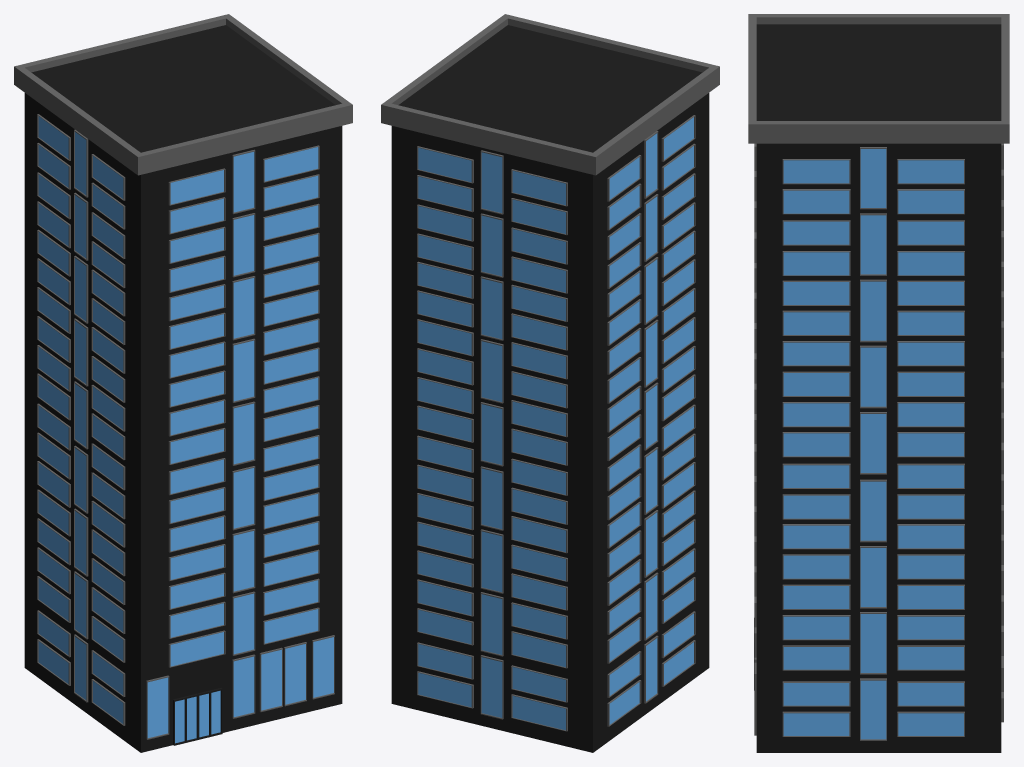
Rendered from cityasset_house_2.fbx.
3 views of the same model, side by side, from view 1: azimuth 30°, elevation 25°; view 2: azimuth 150°, elevation 25°; view 3: azimuth 270°, elevation 25° (orthographic). The views are drawn at different scales.
Parts seen in each view (by area): view 1: Cube.005, Cube.056, Cube.014, Cube.017, Cube.054, Cube.011, Cube.052, Cube.055, Cube.057, Cube.050, Cube.051, Cube.053 (+85 smaller); view 2: Cube.005, Cube.190, Cube.191, Cube.185, Cube.186, Cube.189, Cube.184, Cube.187, Cube.188, Cube.196, Cube.174, Cube.153 (+83 smaller); view 3: Cube.005, Cube.058, Cube.064, Cube.068, Cube.086, Cube.142, Cube.060, Cube.062, Cube.066, Cube.070, Cube.072, Cube.074 (+36 smaller).
Part boxes in pixels (bbox=[...]): Cube.005: bbox=[14, 14, 352, 752]; Cube.056: bbox=[232, 213, 255, 277]; Cube.014: bbox=[259, 647, 282, 711]; Cube.017: bbox=[146, 675, 169, 739]; Cube.054: bbox=[232, 338, 255, 402]; Cube.011: bbox=[232, 654, 255, 718]; Cube.052: bbox=[232, 466, 255, 530]; Cube.055: bbox=[232, 276, 255, 340]; Cube.057: bbox=[232, 149, 255, 214]; Cube.050: bbox=[232, 591, 255, 655]; Cube.051: bbox=[232, 529, 255, 593]; Cube.053: bbox=[232, 401, 255, 465]; Cube.005: bbox=[381, 14, 719, 752]; Cube.190: bbox=[480, 213, 503, 277]; Cube.191: bbox=[480, 150, 503, 214]; Cube.185: bbox=[480, 529, 503, 593]; Cube.186: bbox=[480, 466, 503, 530]; Cube.189: bbox=[480, 276, 503, 340]; Cube.184: bbox=[480, 592, 503, 656]; Cube.187: bbox=[480, 402, 503, 466]; Cube.188: bbox=[480, 339, 503, 403]; Cube.196: bbox=[480, 655, 503, 719]; Cube.174: bbox=[417, 261, 473, 299]; Cube.153: bbox=[511, 602, 567, 639]; Cube.005: bbox=[748, 14, 1009, 752]; Cube.058: bbox=[782, 645, 850, 670]; Cube.064: bbox=[782, 554, 850, 579]; Cube.068: bbox=[782, 494, 850, 519]; Cube.086: bbox=[782, 220, 850, 245]; Cube.142: bbox=[782, 681, 850, 706]; Cube.060: bbox=[782, 615, 850, 640]; Cube.062: bbox=[782, 584, 850, 609]; Cube.066: bbox=[782, 524, 850, 549]; Cube.070: bbox=[782, 463, 850, 488]; Cube.072: bbox=[782, 432, 850, 457]; Cube.074: bbox=[782, 402, 850, 427].
Bounding box in the file's own units: 321 × 858 × 321.
